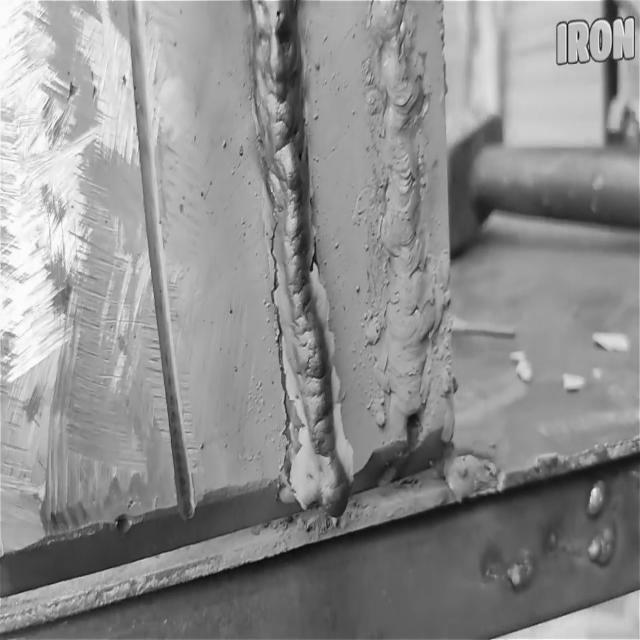Bad Welding: (244, 2, 354, 514), (360, 3, 432, 441)
Crack: (258, 160, 300, 510)
Porosity: (402, 402, 424, 452)
